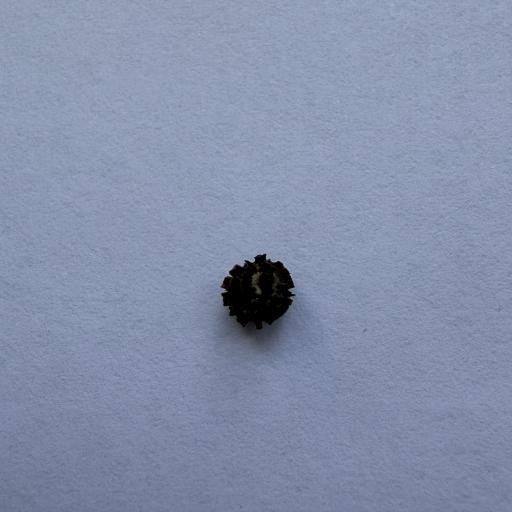papaya_seed: (212, 233, 312, 347)
